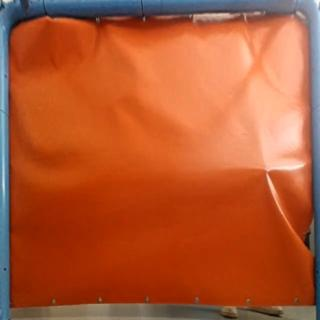Hit-hRxx: (260, 163, 274, 178)
